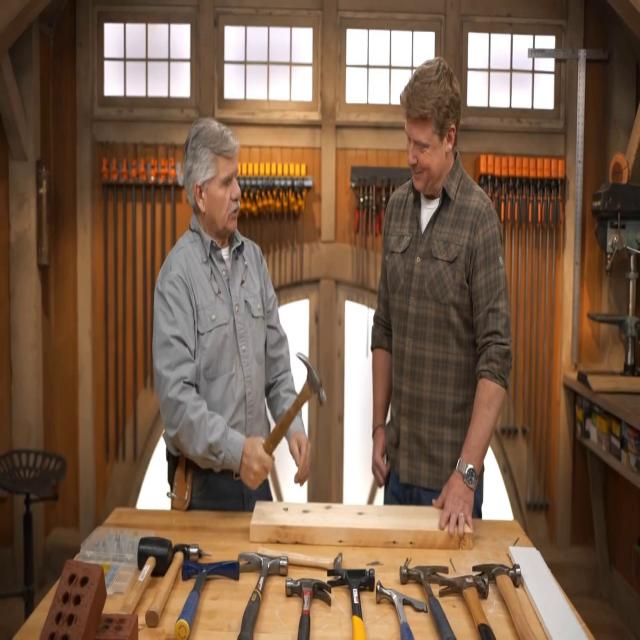hammer: (264, 352, 328, 456), (174, 560, 240, 640), (473, 565, 536, 640), (145, 544, 199, 628), (238, 552, 288, 640), (400, 565, 456, 640), (121, 537, 173, 614), (440, 573, 496, 640), (327, 568, 375, 640), (376, 580, 428, 640), (286, 578, 331, 640), (258, 549, 342, 571)
